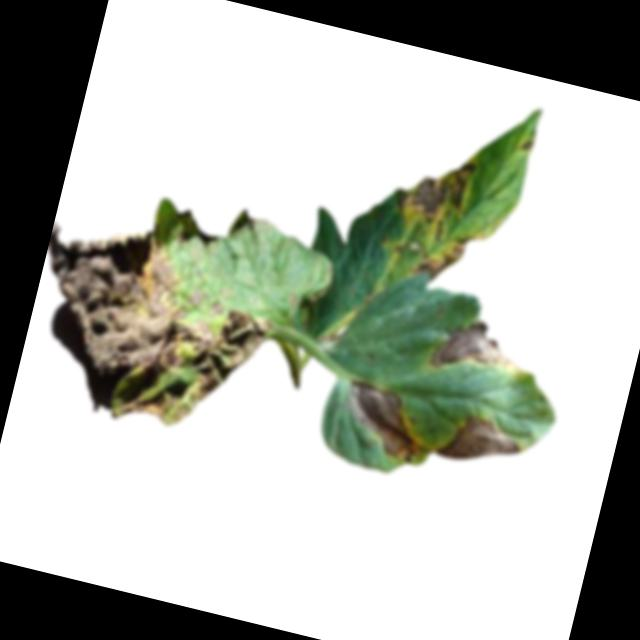Early_blight: (12, 202, 289, 450), (387, 141, 478, 238), (337, 378, 433, 463), (427, 309, 524, 387), (433, 406, 526, 474), (409, 227, 470, 285), (517, 134, 536, 153)
